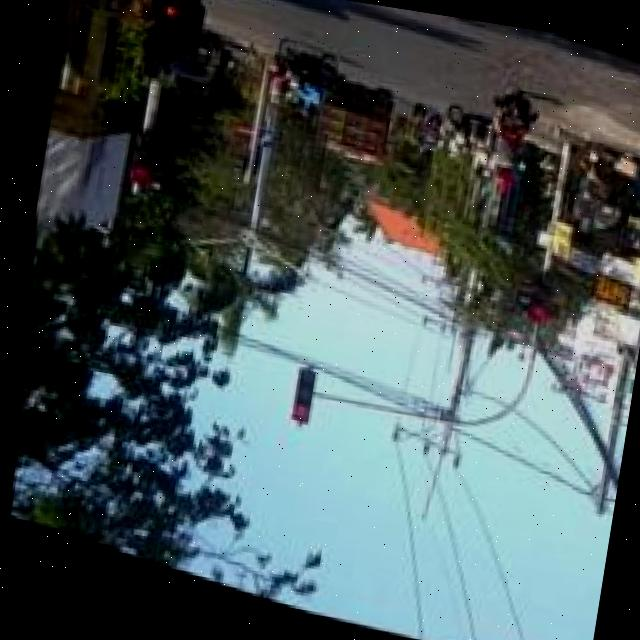red_light: (115, 134, 158, 200), (282, 372, 316, 436), (522, 269, 556, 329)
